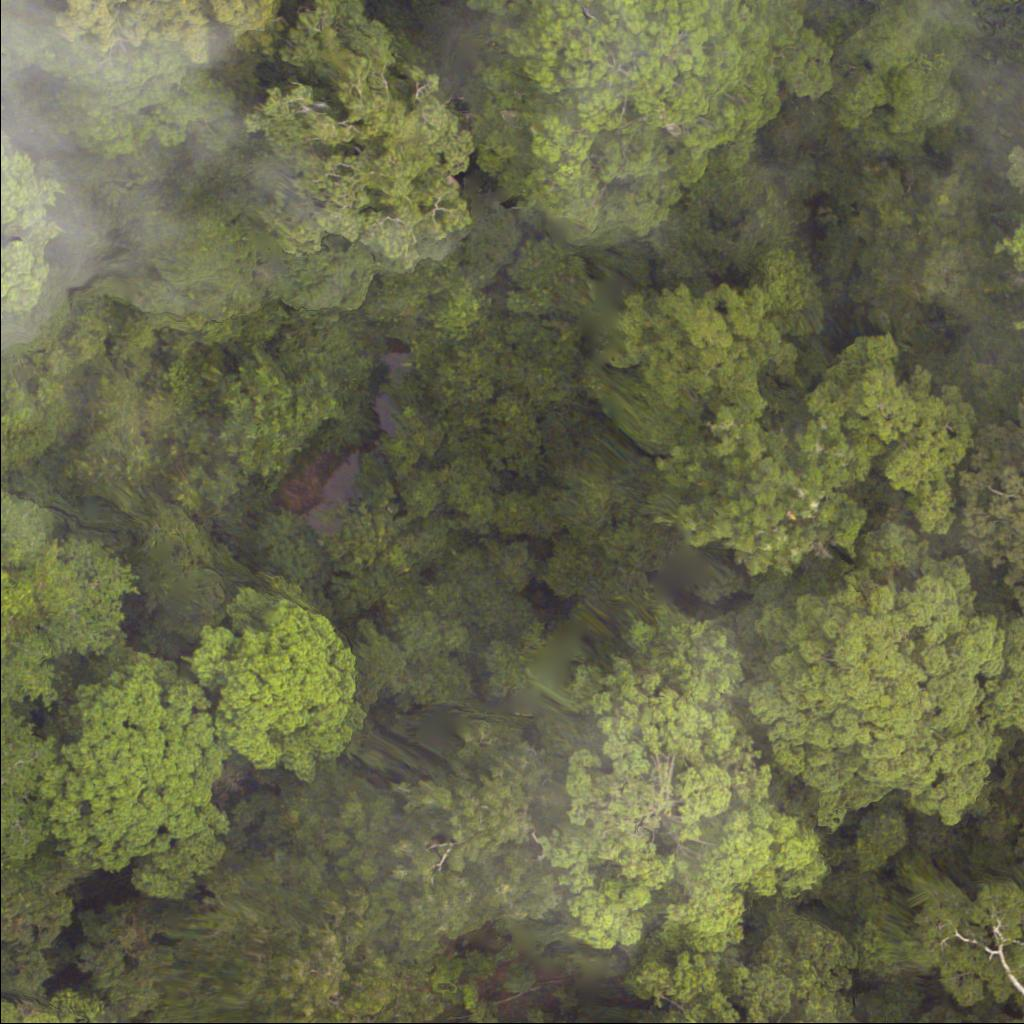crown: (452, 0, 835, 257), (747, 557, 1023, 835), (37, 638, 246, 889), (185, 580, 367, 789), (7, 0, 269, 75), (981, 400, 1023, 574), (0, 1002, 93, 1023), (994, 265, 1023, 302), (666, 1005, 702, 1023), (1017, 142, 1023, 198)
